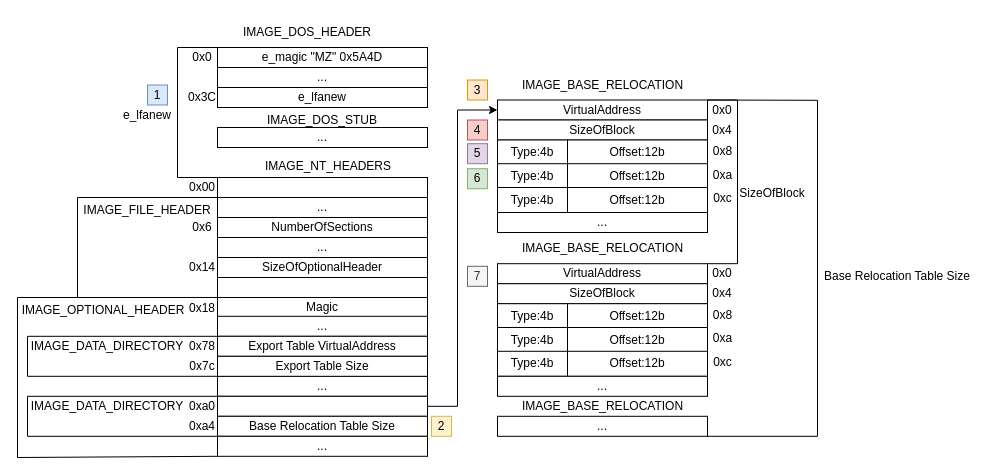
Some shapes in this 995 by 476 pixel diagram are drawn without their labels. Here are the shapes that lost their labels. From the top down, the box of each, then its label:
(216, 176, 428, 198): Signature "PE" 0x4550
(216, 276, 428, 298): Characteristics
(216, 395, 428, 416): Base Relocation Table VirtualAddress
